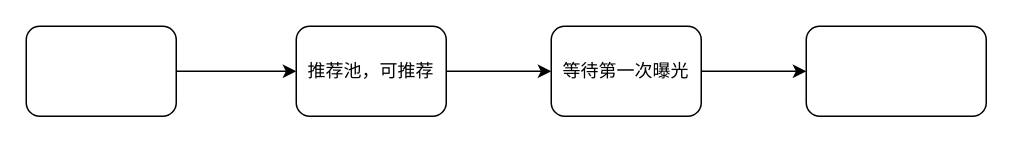
Some shapes in this 1013 by 143 pixel diagram are drawn without their labels. The shapes that lost their labels are listed below. From the top down, each one's centre as x and y in pixels, then its label:
pixel 100 70: 管理台收到任务
pixel 895 70: 曝光达到阈值，投放成功
